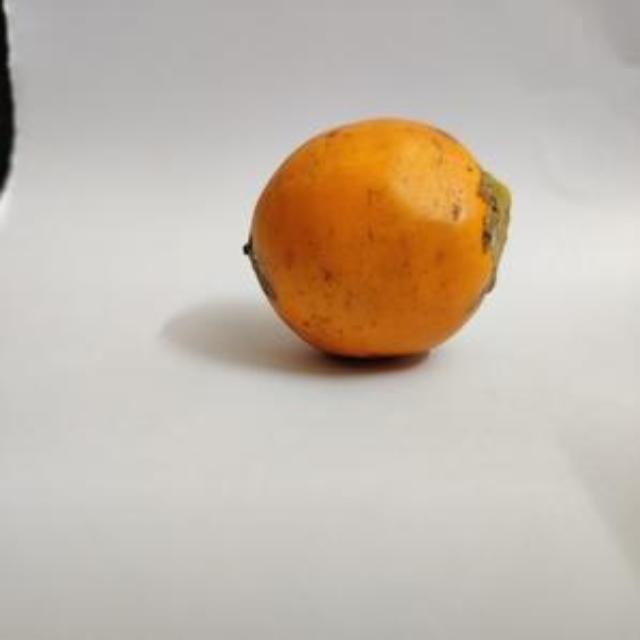good: (242, 118, 512, 360)
